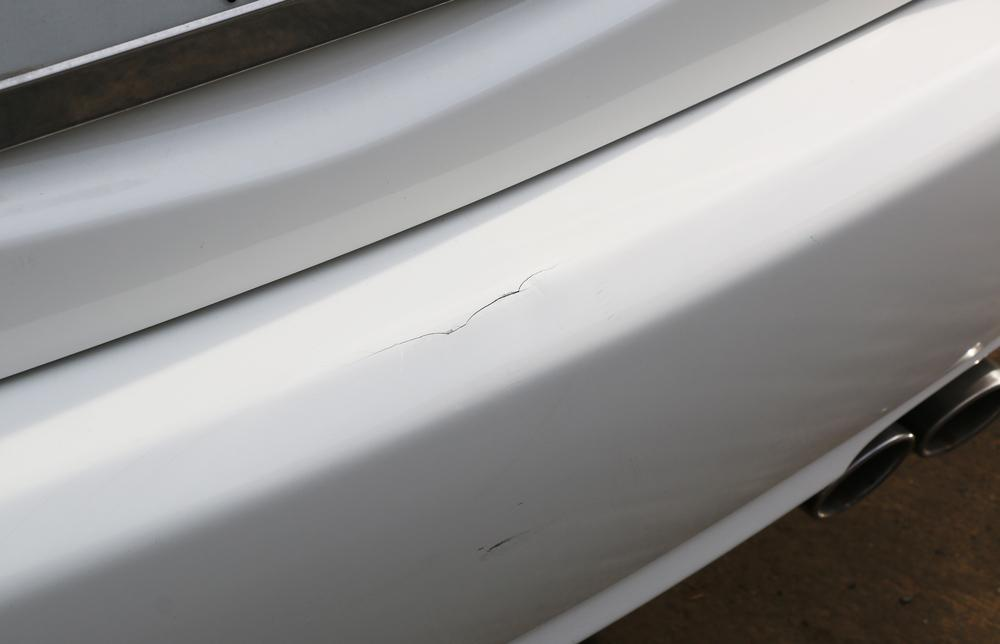crack: (367, 263, 563, 357)
